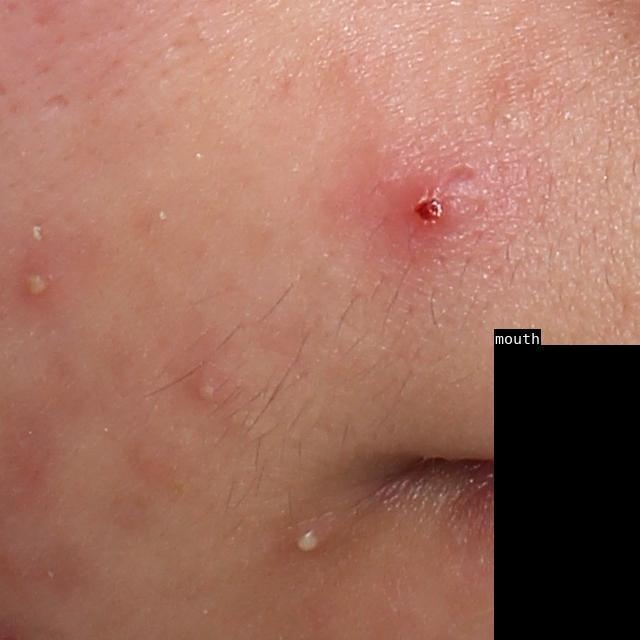atrophic_scar: (41, 93, 72, 110)
papule: (389, 163, 476, 240)
pustule: (19, 260, 58, 308), (290, 526, 324, 557)
